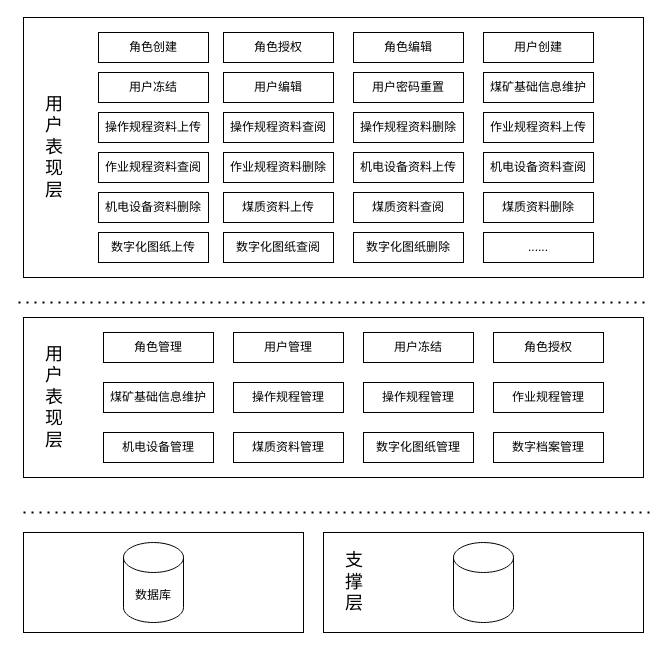
This 672x650 diagram has some shape labels left out. The box of each missing label's shape, as (x1, y1, x2, y2) in pixels:
Redis: (452, 542, 514, 622)
数 据 层: (22, 532, 304, 632)
